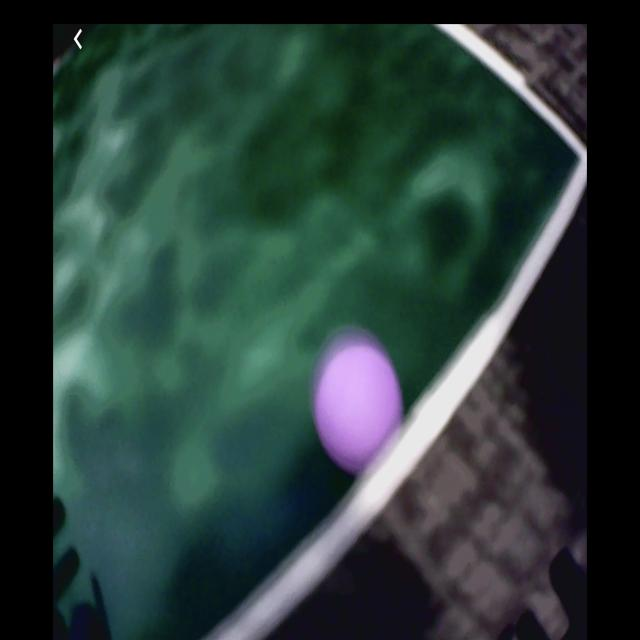ball: (315, 345, 401, 466)
